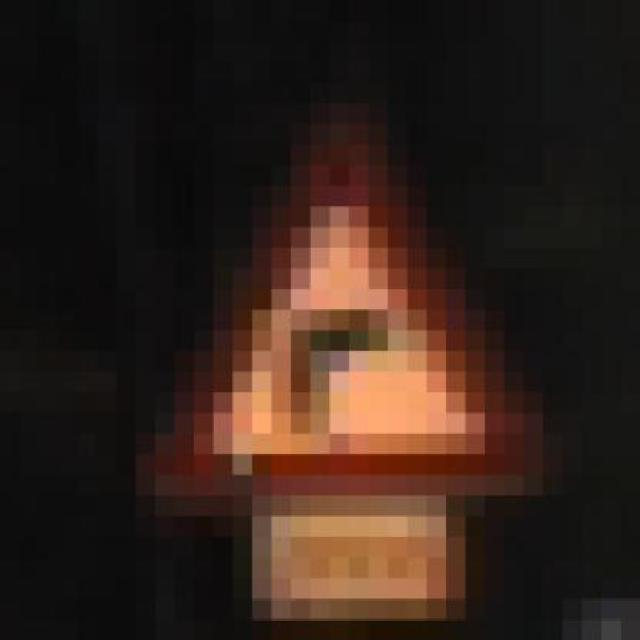Dangerous Rright Curve Ahead: (116, 82, 544, 516)
